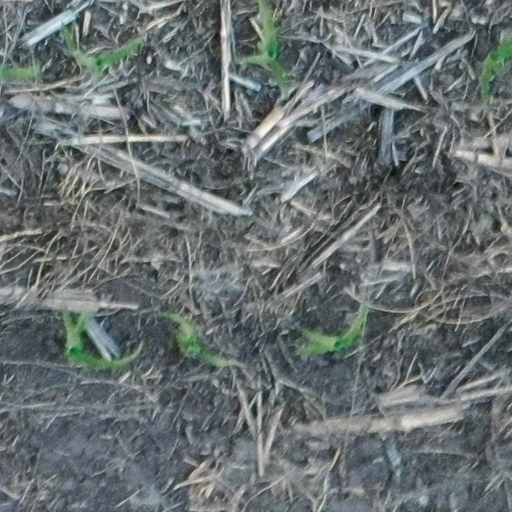planta: (149, 313, 244, 369), (62, 21, 145, 83), (63, 307, 142, 369), (293, 294, 367, 353), (480, 31, 511, 101)
